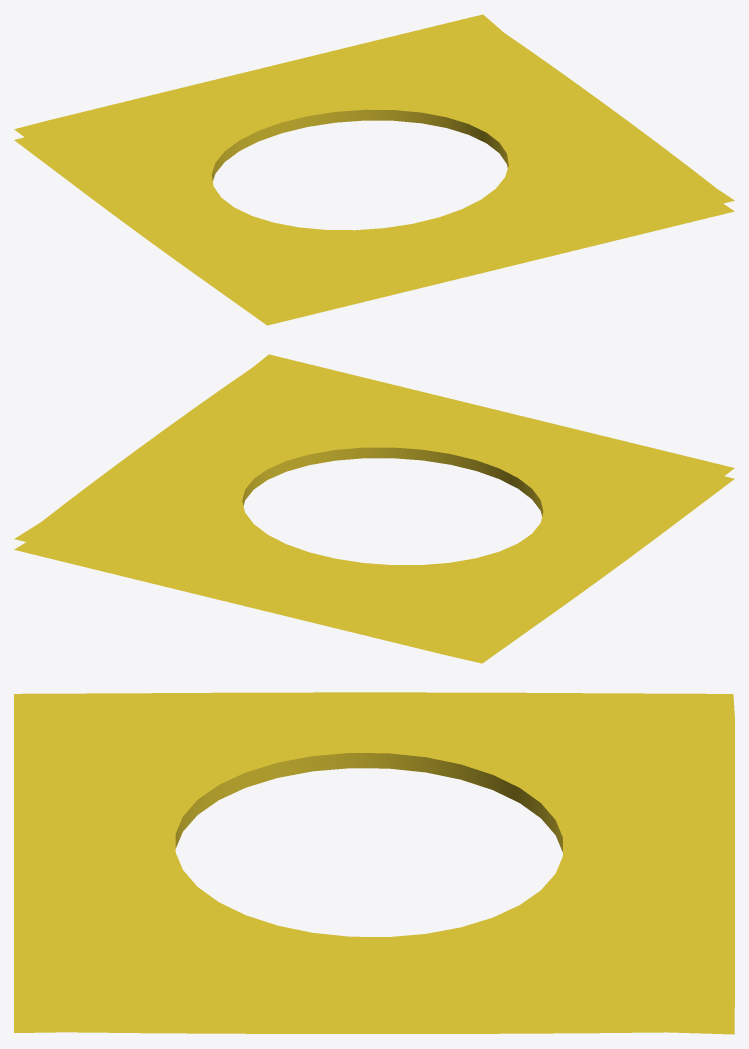
File: SM_HUB_Roof.fbx
The picture shows the model from 3 angles, top to bottom: view 1: azimuth 30°, elevation 25°; view 2: azimuth 150°, elevation 25°; view 3: azimuth 270°, elevation 25°; orthographic projection. The views are drawn at different scales.
Visible parts, largest first — view 1: SM_HUB_Roof; view 2: SM_HUB_Roof; view 3: SM_HUB_Roof.
Part boxes in pixels (x1=…): SM_HUB_Roof: x1=14, y1=14, x2=734, y2=325; SM_HUB_Roof: x1=14, y1=354, x2=734, y2=663; SM_HUB_Roof: x1=14, y1=692, x2=734, y2=1034.
Bounding box in the file's own units: 4105 × 89.56 × 3828.
